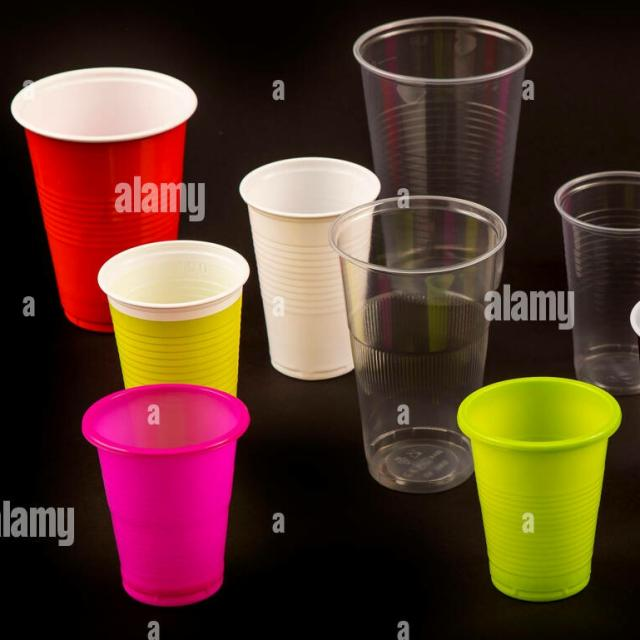Single-Use-Plastic: (330, 196, 506, 494), (11, 68, 198, 332), (82, 384, 250, 606), (354, 16, 532, 221), (458, 378, 621, 601), (240, 158, 380, 379), (98, 240, 250, 394), (555, 172, 640, 395)
